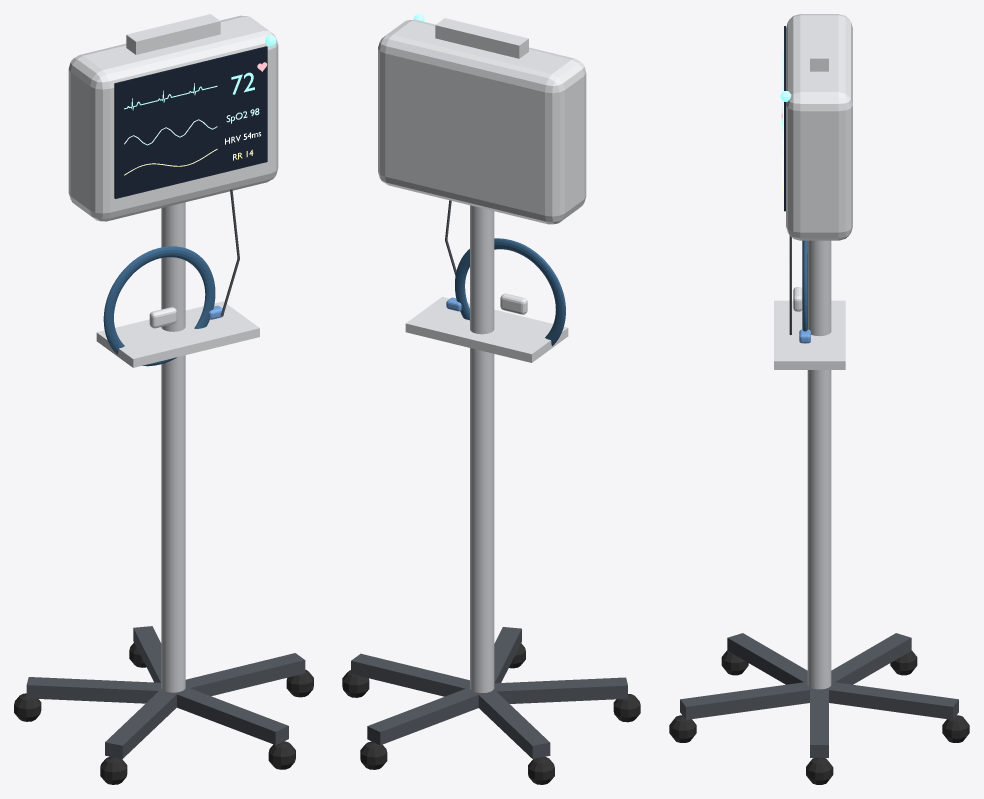
The model's file is heart_rate_monitor.glb.
The picture shows the model from 3 angles, left to right: view 1: azimuth 30°, elevation 25°; view 2: azimuth 150°, elevation 25°; view 3: azimuth 270°, elevation 25°; orthographic projection. The views are drawn at different scales.
Visible parts, largest first — view 1: Accessory_Basket, Cube (×5), Alarm_Light; view 2: Accessory_Basket, Cube (×5); view 3: Accessory_Basket, Cube (×5).
Boxes of the visible parts, x1,y1,x2,y2 form: Accessory_Basket: [14, 14, 313, 784]; Cube (×5): [26, 626, 305, 758]; Alarm_Light: [124, 35, 276, 110]; Accessory_Basket: [342, 18, 640, 784]; Cube (×5): [351, 627, 627, 758]; Accessory_Basket: [669, 14, 969, 784]; Cube (×5): [680, 633, 958, 757].
Size of the model in its own units: 0.597 by 1.58 by 0.6277.
Materials: 5 (5 with a texture image).
